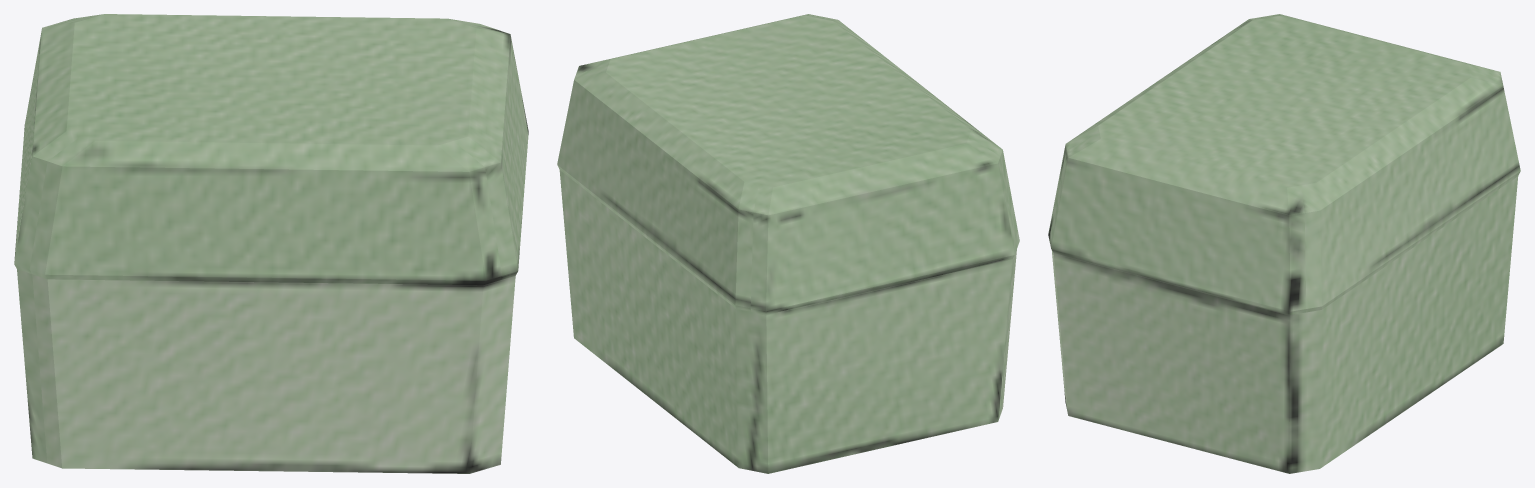
Rendered from furniture_footrest.glb.
3 views of the same model, side by side, from view 1: azimuth 30°, elevation 25°; view 2: azimuth 150°, elevation 25°; view 3: azimuth 270°, elevation 25° (orthographic). The views are drawn at different scales.
Visible parts, largest first — view 1: footrest; view 2: footrest; view 3: footrest.
Boxes of the visible parts, x1,y1,x2,y2 form: footrest: [14, 14, 528, 473]; footrest: [557, 14, 1019, 473]; footrest: [1048, 14, 1520, 473].
Bounding box in the file's own units: 0.0567 × 0.033 × 0.0521.
1 material, 1 textured.
